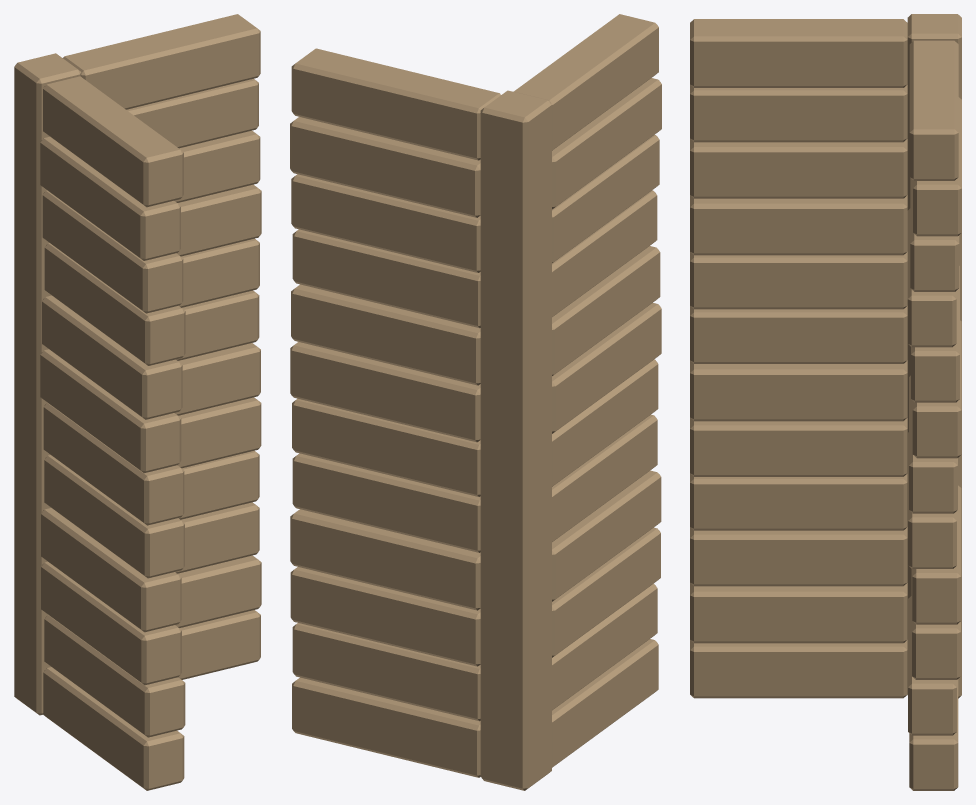
Rendered from corner_outer.glb.
The picture shows the model from 3 angles, left to right: view 1: azimuth 30°, elevation 25°; view 2: azimuth 150°, elevation 25°; view 3: azimuth 270°, elevation 25°; orthographic projection. The views are drawn at different scales.
Visible parts, largest first — view 1: corner_outer; view 2: corner_outer; view 3: corner_outer.
Part boxes in pixels (bbox=[...]): corner_outer: bbox=[14, 14, 261, 790]; corner_outer: bbox=[290, 14, 661, 790]; corner_outer: bbox=[690, 14, 961, 790].
Bounding box in the file's own units: 1 × 2.7 × 1.
